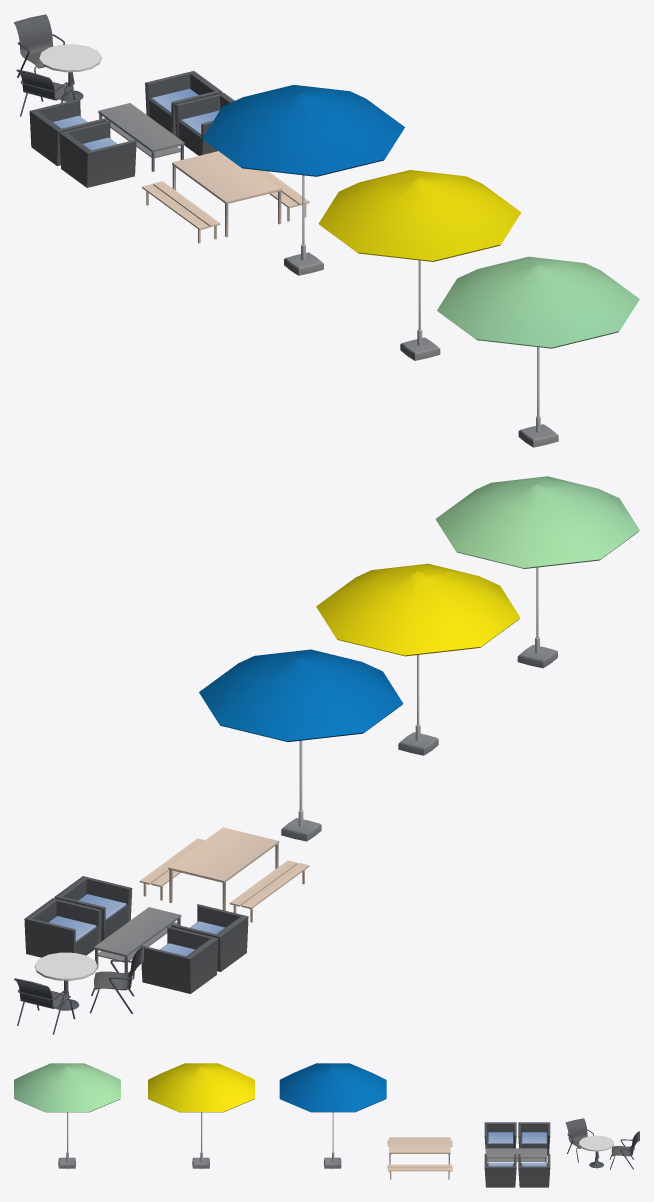
The model's file is kahvilasetti.fbx.
3 views of the same model, one above another, from view 1: azimuth 30°, elevation 25°; view 2: azimuth 150°, elevation 25°; view 3: azimuth 270°, elevation 25° (orthographic). The views are drawn at different scales.
Visible parts, largest first — view 1: varjo_kel, varjo_vih, varjo_sin, kahvilasetti_b, kahvilasetti_c, kahvilasetti_a; view 2: varjo_sin, varjo_kel, varjo_vih, kahvilasetti_b, kahvilasetti_c, kahvilasetti_a; view 3: varjo_sin, varjo_kel, varjo_vih, kahvilasetti_b, kahvilasetti_c, kahvilasetti_a.
Part boxes in pixels (bbox=[...]): varjo_kel: bbox=[318, 170, 521, 360]; varjo_vih: bbox=[437, 256, 639, 447]; varjo_sin: bbox=[202, 85, 404, 275]; kahvilasetti_b: bbox=[29, 71, 234, 187]; kahvilasetti_c: bbox=[142, 151, 309, 243]; kahvilasetti_a: bbox=[14, 14, 101, 116]; varjo_sin: bbox=[199, 649, 403, 841]; varjo_kel: bbox=[316, 563, 520, 755]; varjo_vih: bbox=[435, 476, 639, 668]; kahvilasetti_b: bbox=[24, 876, 248, 993]; kahvilasetti_c: bbox=[139, 827, 309, 922]; kahvilasetti_a: bbox=[14, 946, 144, 1034]; varjo_sin: bbox=[279, 1063, 386, 1168]; varjo_kel: bbox=[148, 1063, 254, 1168]; varjo_vih: bbox=[14, 1063, 120, 1168]; kahvilasetti_b: bbox=[484, 1122, 550, 1187]; kahvilasetti_c: bbox=[387, 1137, 452, 1179]; kahvilasetti_a: bbox=[565, 1118, 639, 1169].
Bounding box in the file's own units: 12.14 × 12.31 × 70.79.
